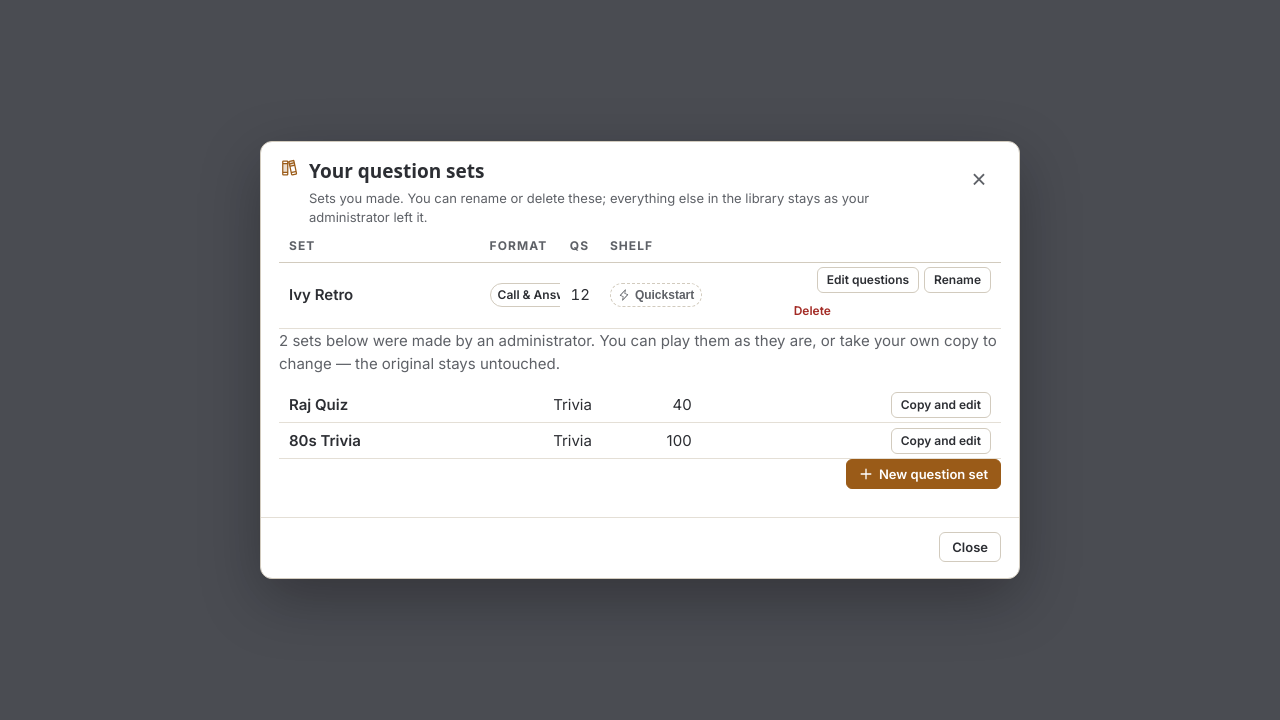
Test: a host edits the questions in a set they own › the three admins-only controls are absent, and their routes untouched
Click the button "Edit questions" at [868, 280], box top-left (817, 267), bottom-right (919, 293)
(page scrolled)
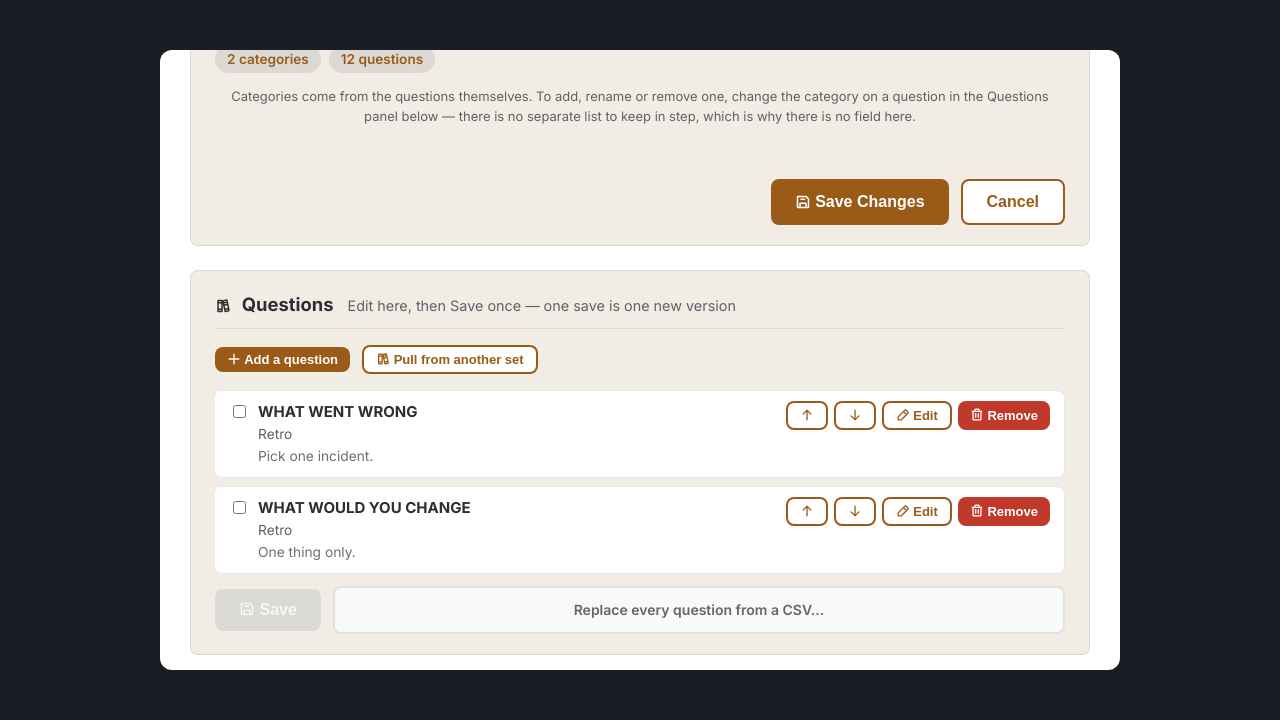
Check: the list item with test id "question-0" is shown, box top-left (215, 390), bottom-right (1065, 478)
Click the button "Add a question" at [282, 360], box top-left (215, 347), bottom-right (350, 372)
(page scrolled)
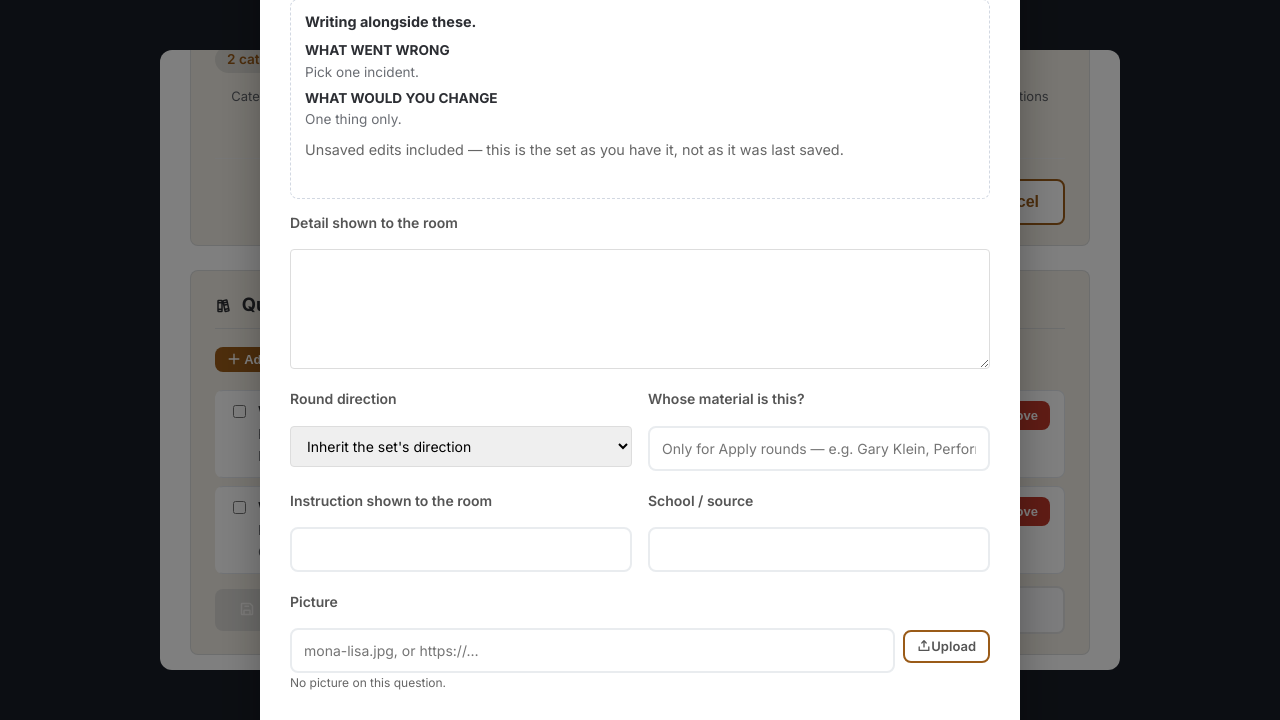
Check: the dialog "New question" is shown, box top-left (260, 0), bottom-right (1020, 719)
